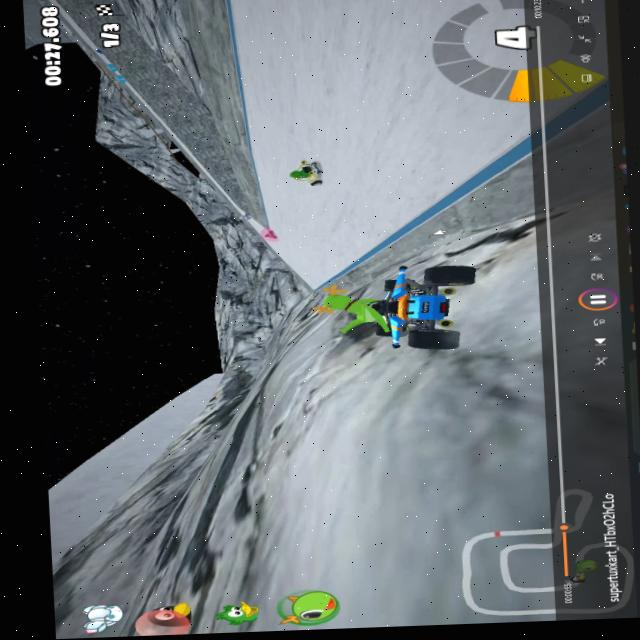enemy_kart: (284, 156, 325, 187)
player_kart: (318, 263, 480, 355)
track: (411, 0, 507, 165), (359, 0, 417, 213), (273, 0, 331, 155), (319, 0, 367, 186), (302, 188, 374, 266), (243, 0, 280, 144), (413, 157, 473, 198), (368, 199, 417, 230), (272, 189, 302, 228), (260, 139, 278, 187), (289, 227, 304, 278), (265, 185, 275, 222), (277, 239, 289, 263), (253, 217, 260, 227)
